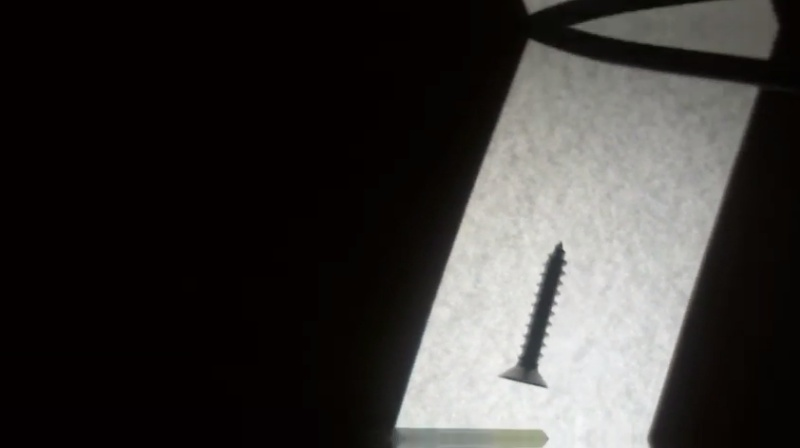S001: (495, 238, 571, 392)
